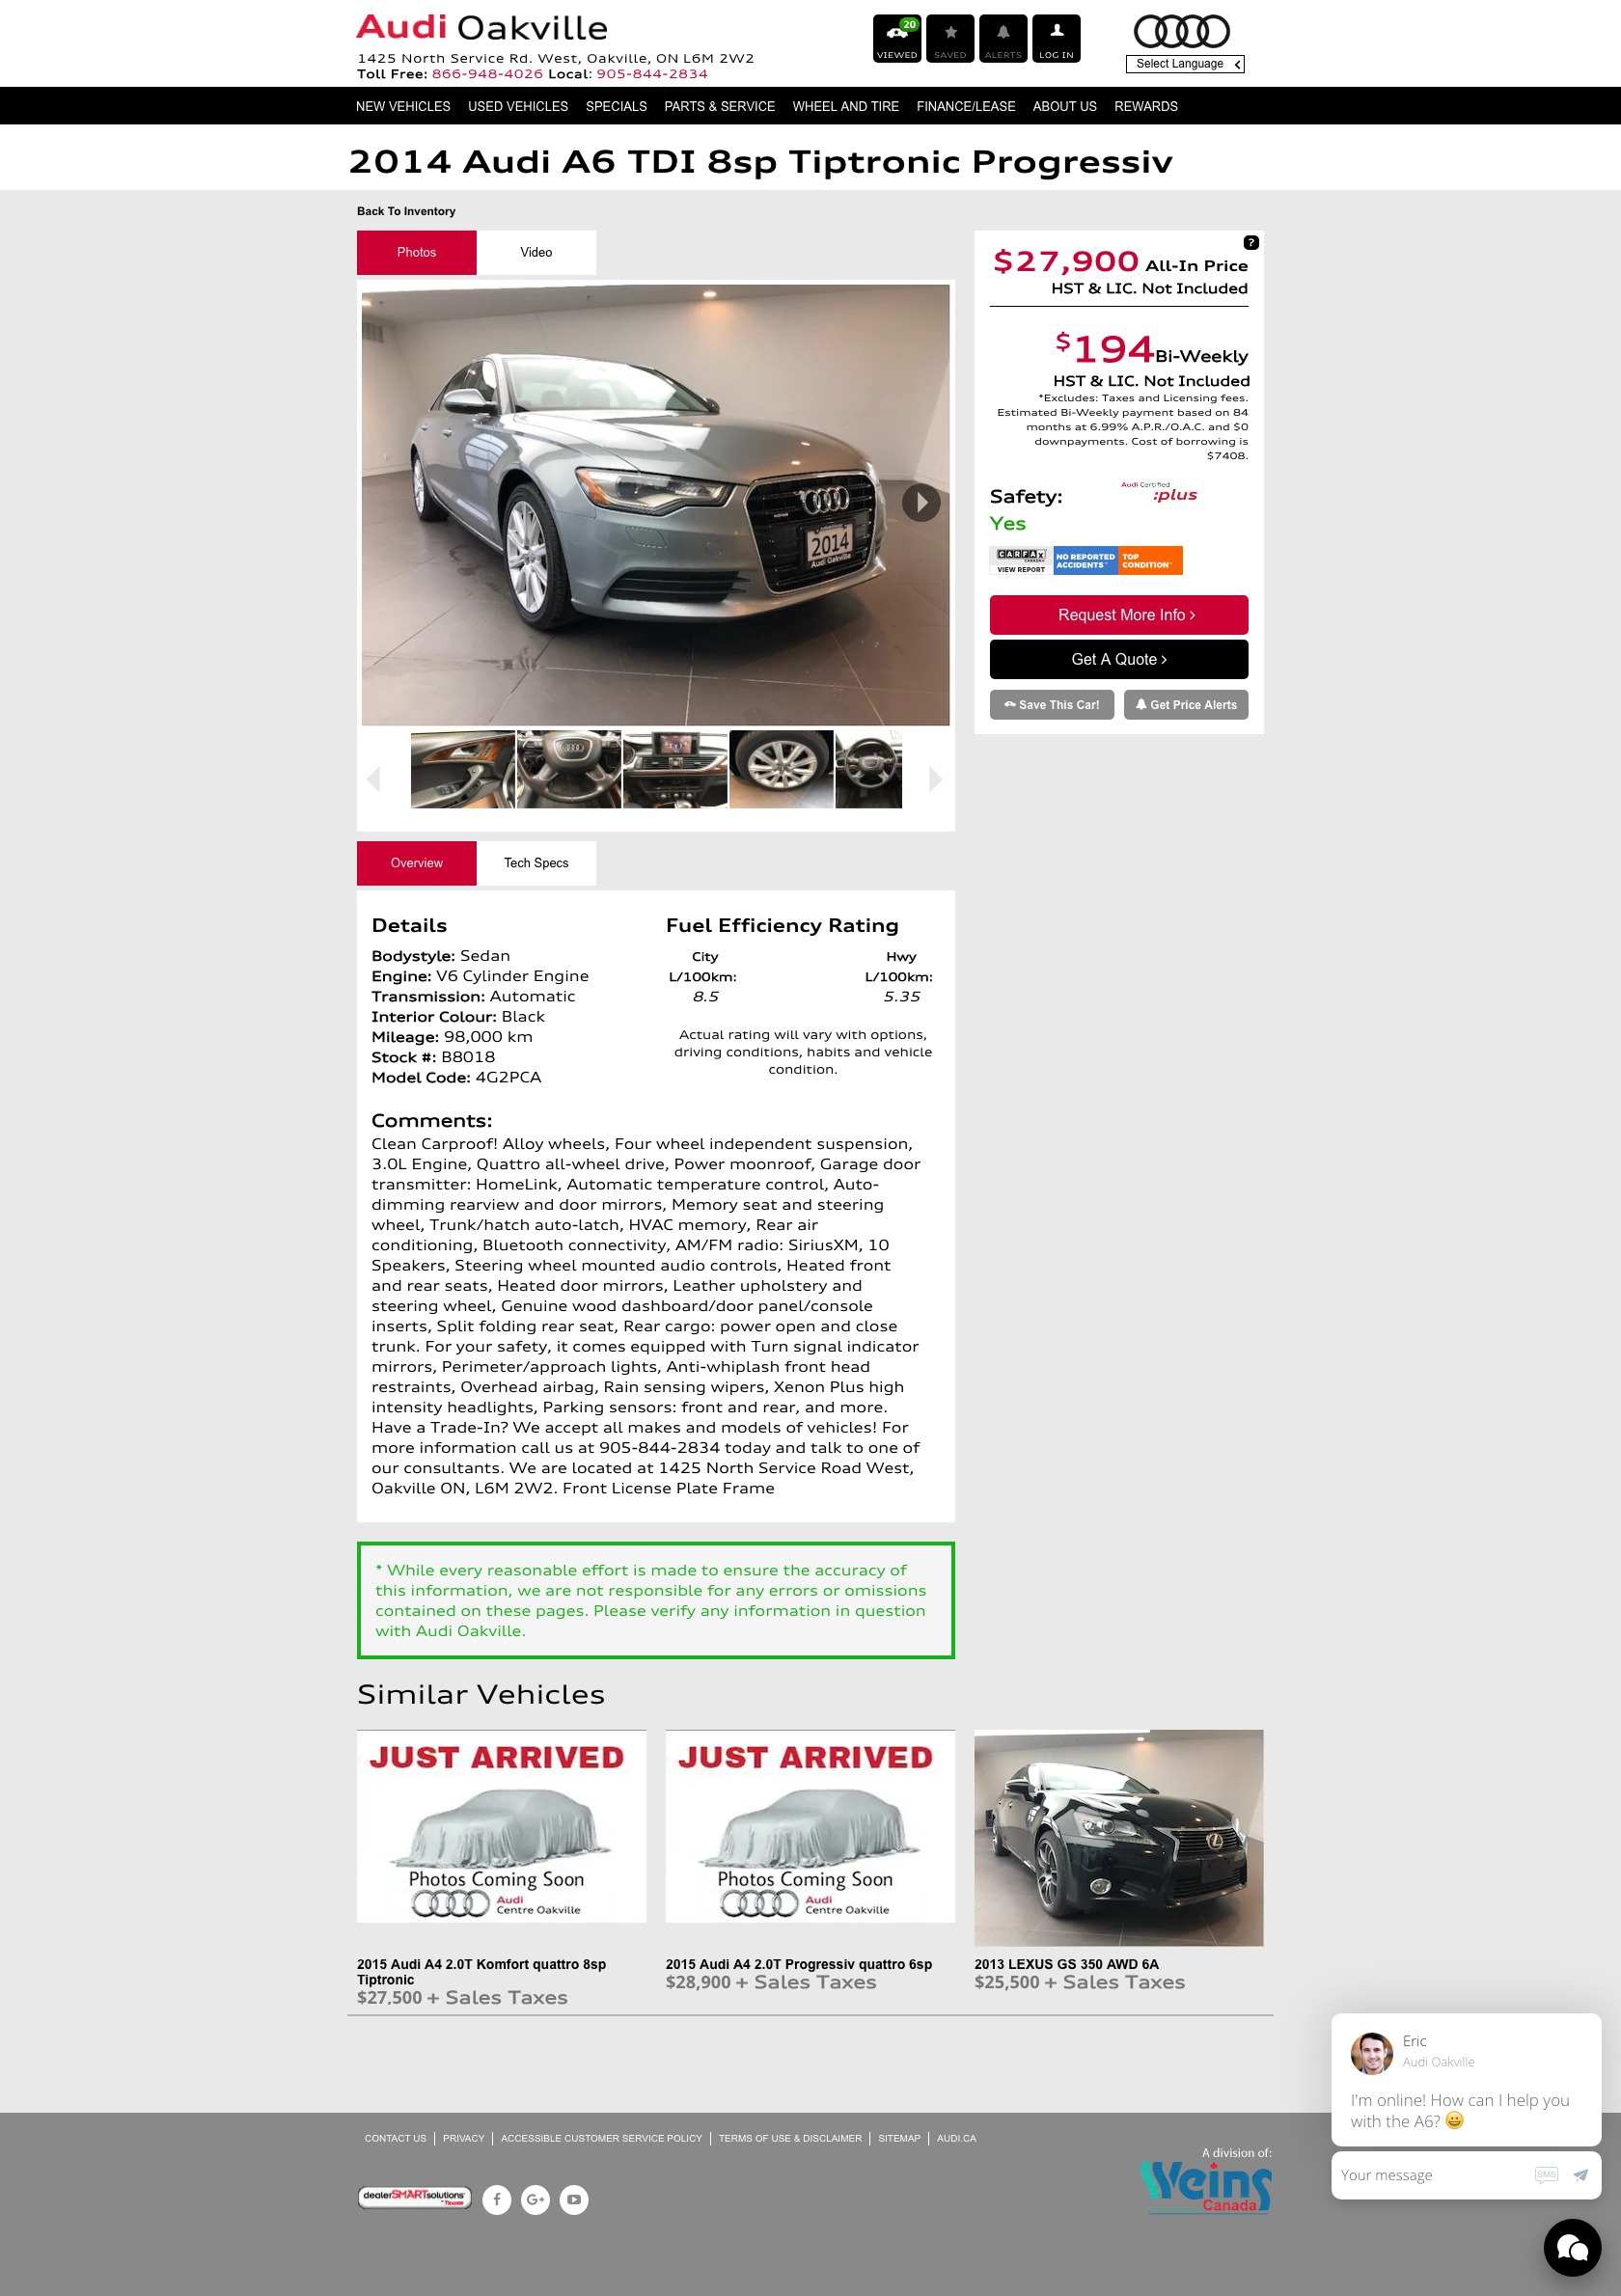car: (928, 765, 944, 795)
